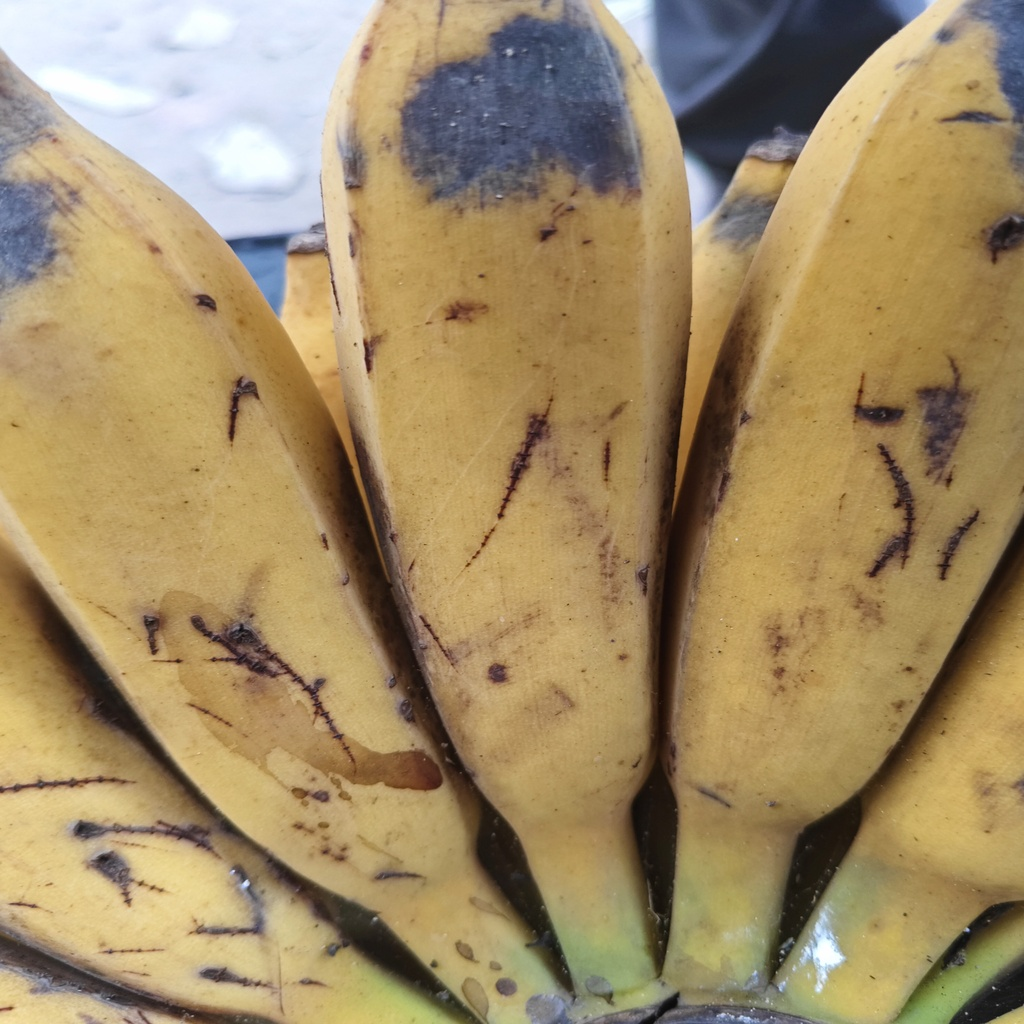unhealthy: (3, 52, 485, 957), (316, 4, 690, 875), (667, 5, 1023, 833)
